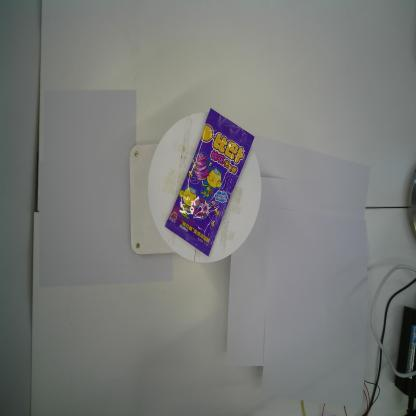Candy: (162, 107, 256, 258)
